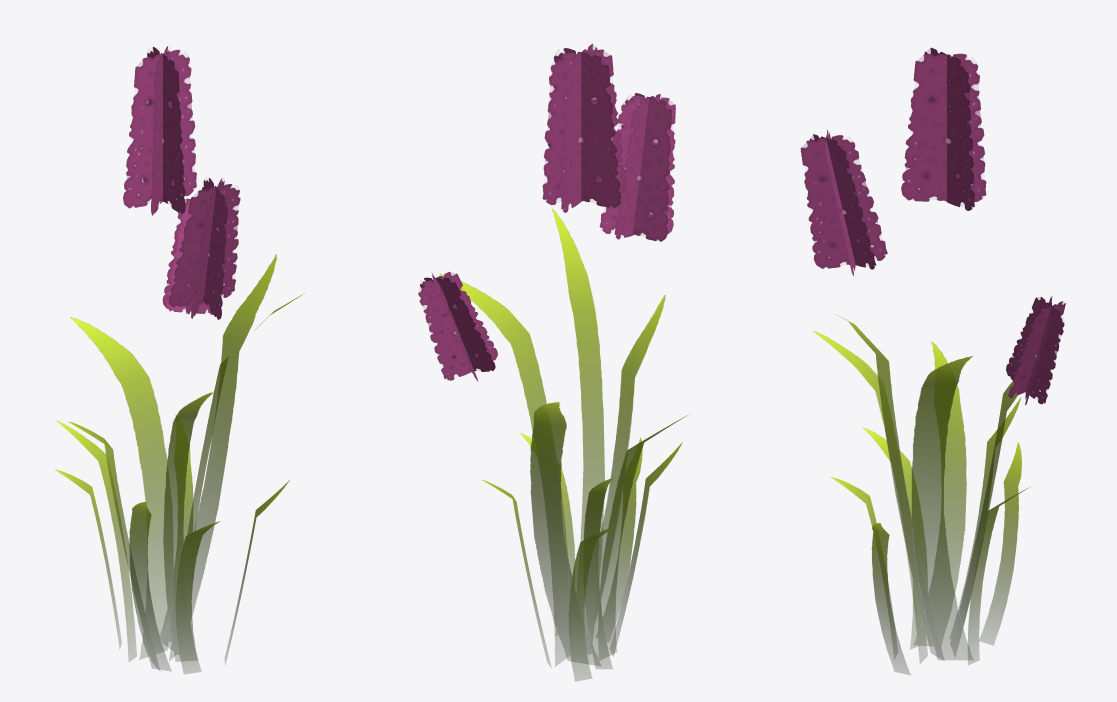
Rendered from Flower3.glb.
The picture shows the model from 3 angles, left to right: view 1: azimuth 30°, elevation 25°; view 2: azimuth 150°, elevation 25°; view 3: azimuth 270°, elevation 25°; orthographic projection.
Visible parts, largest first — view 1: Type_1_Flower_2_LOD0; view 2: Type_1_Flower_2_LOD0; view 3: Type_1_Flower_2_LOD0.
Part boxes in pixels (x1,y1,x2,y2): Type_1_Flower_2_LOD0: (55, 46, 305, 673); Type_1_Flower_2_LOD0: (418, 44, 689, 681); Type_1_Flower_2_LOD0: (800, 47, 1065, 674).
Size of the model in its own units: 0.4839 by 1.02 by 0.5054.
2 materials, 2 textured.
